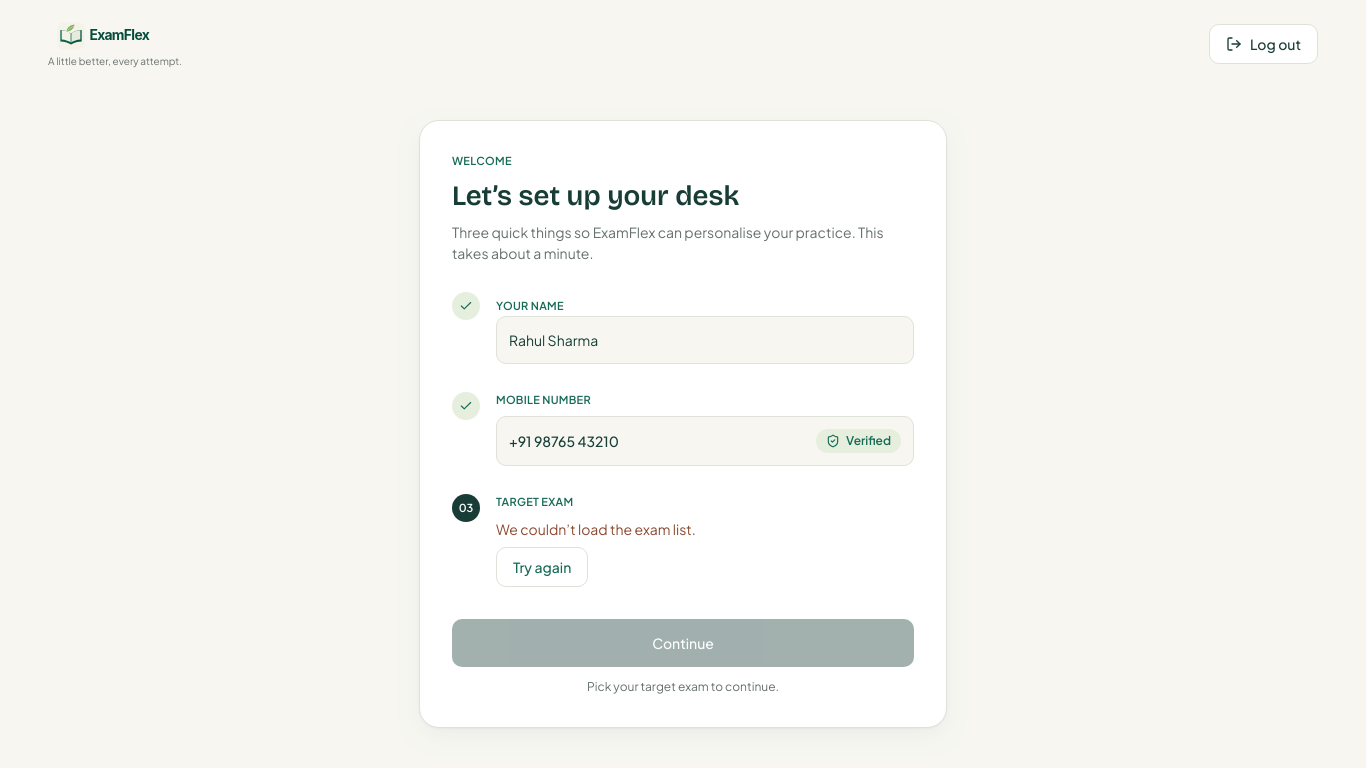
Test: OnboardingScreen › target exam › offers a retry when the exam list cannot load
Expected: the message shows "couldn’t load the exam list", [496,520,696,538]
Step 1. Click the button "Try again" → [542, 567], box [496,547,588,587]
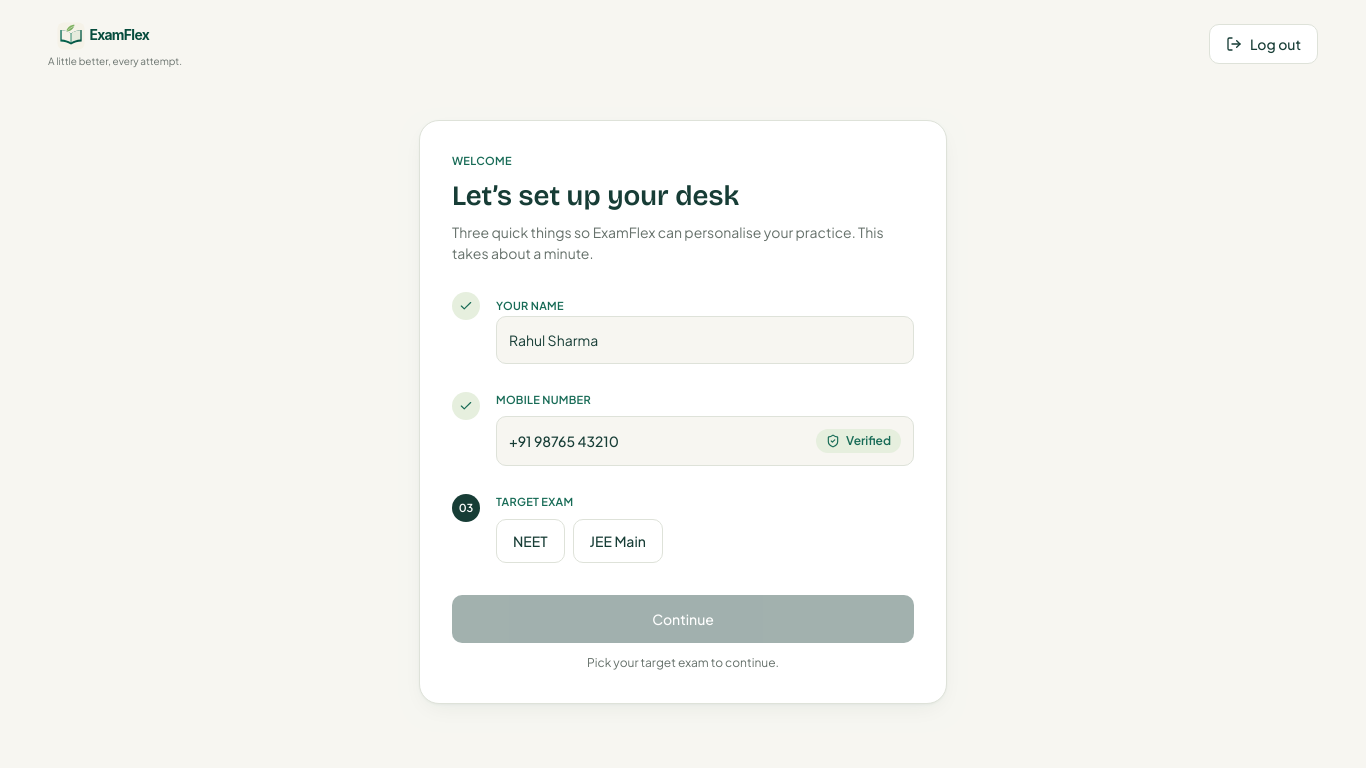
Now the radio button labelled "NEET" is shown, box [496,519,565,563]
